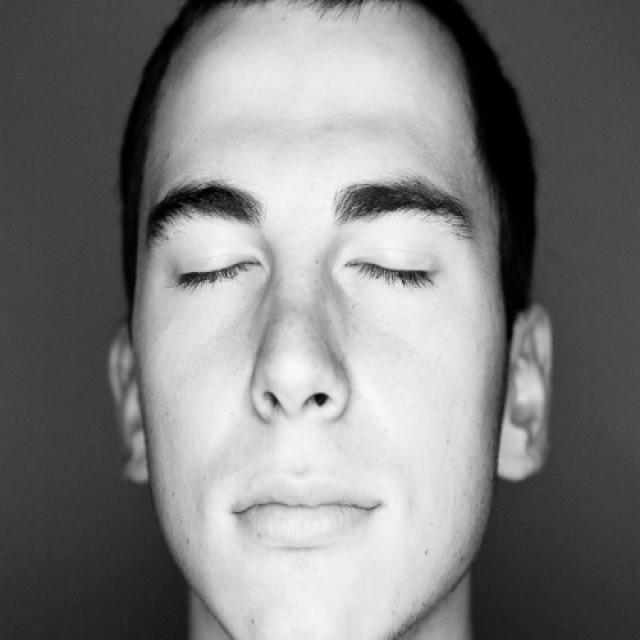real: (110, 5, 555, 640), (138, 176, 488, 319)
